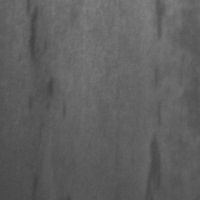inclusion: (25, 1, 68, 119), (144, 131, 168, 199), (151, 65, 169, 128), (151, 0, 170, 49), (26, 168, 41, 199)
